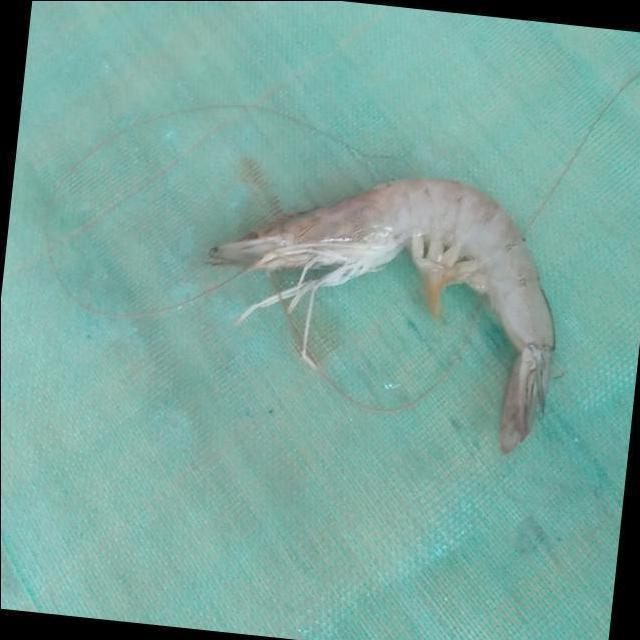shrimp: (207, 178, 555, 453)
